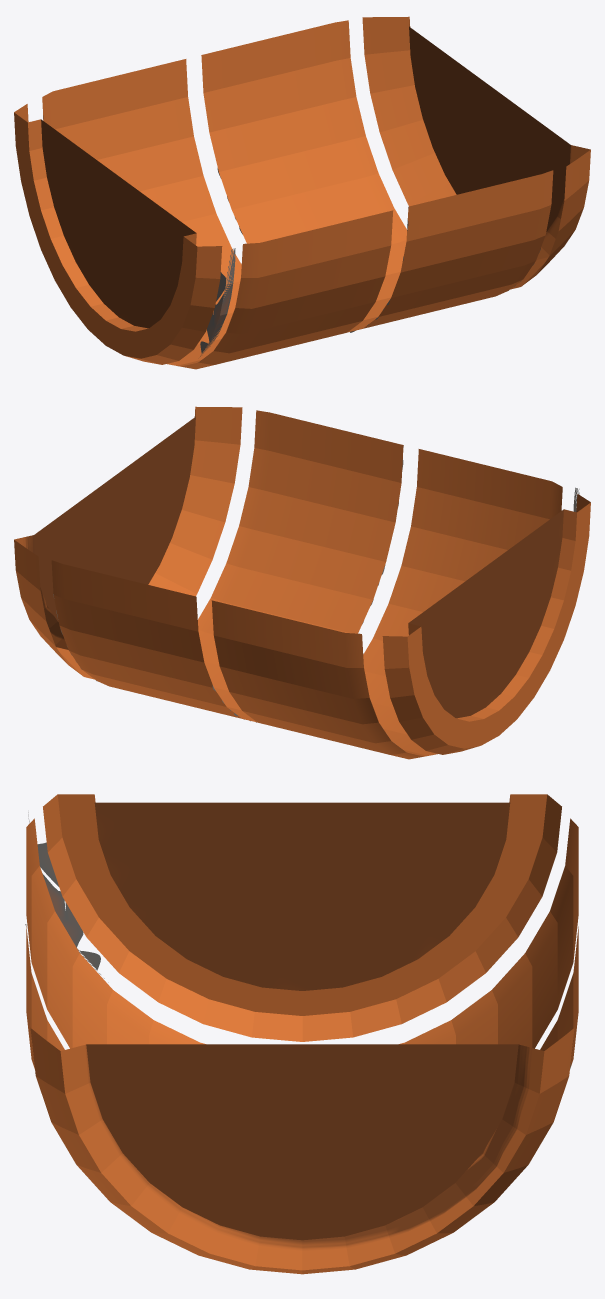
The model's file is barrilCarroceria.fbx.
The picture shows the model from 3 angles, top to bottom: view 1: azimuth 30°, elevation 25°; view 2: azimuth 150°, elevation 25°; view 3: azimuth 270°, elevation 25°; orthographic projection. The views are drawn at different scales.
Visible parts, largest first — view 1: Cylinder; view 2: Cylinder; view 3: Cylinder.
Boxes of the visible parts, left/top/right/bottom form: Cylinder: left=14, top=16, right=590, bottom=369; Cylinder: left=14, top=406, right=590, bottom=759; Cylinder: left=25, top=794, right=578, bottom=1274.
Bounding box in the file's own units: 156 × 73.86 × 148.
1 material, 1 textured.
